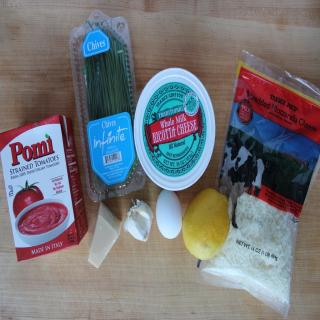tomato: (12, 178, 43, 218)
